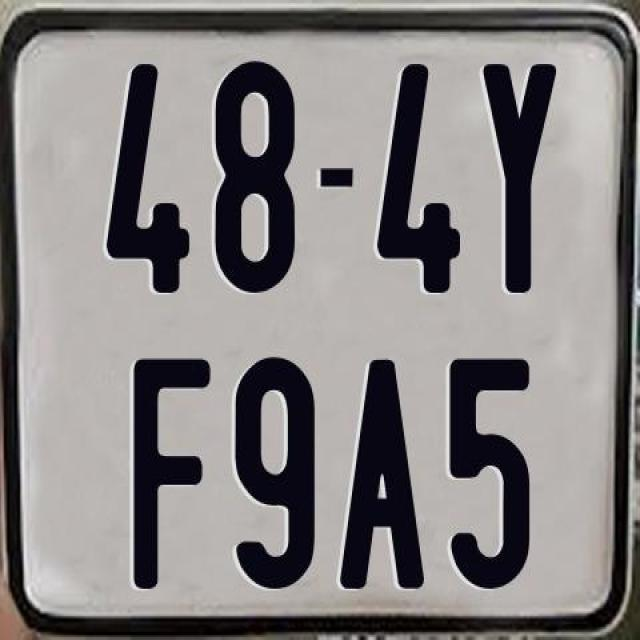4: (374, 61, 466, 296), (104, 61, 187, 296)
5: (449, 357, 532, 596)
8: (212, 59, 300, 293)
9: (234, 357, 322, 596)
A: (338, 357, 431, 590)
F: (132, 354, 210, 594)
Y: (483, 59, 556, 288)
